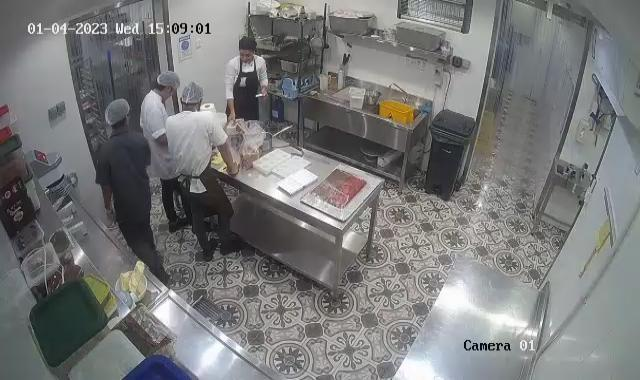apron: (97, 198, 121, 229)
gloves: (104, 97, 131, 125), (178, 81, 202, 107), (154, 70, 180, 92), (238, 37, 258, 53)
no_apron: (222, 153, 246, 182), (252, 82, 280, 104), (220, 107, 242, 130)
no_hairnet: (236, 49, 260, 68)
